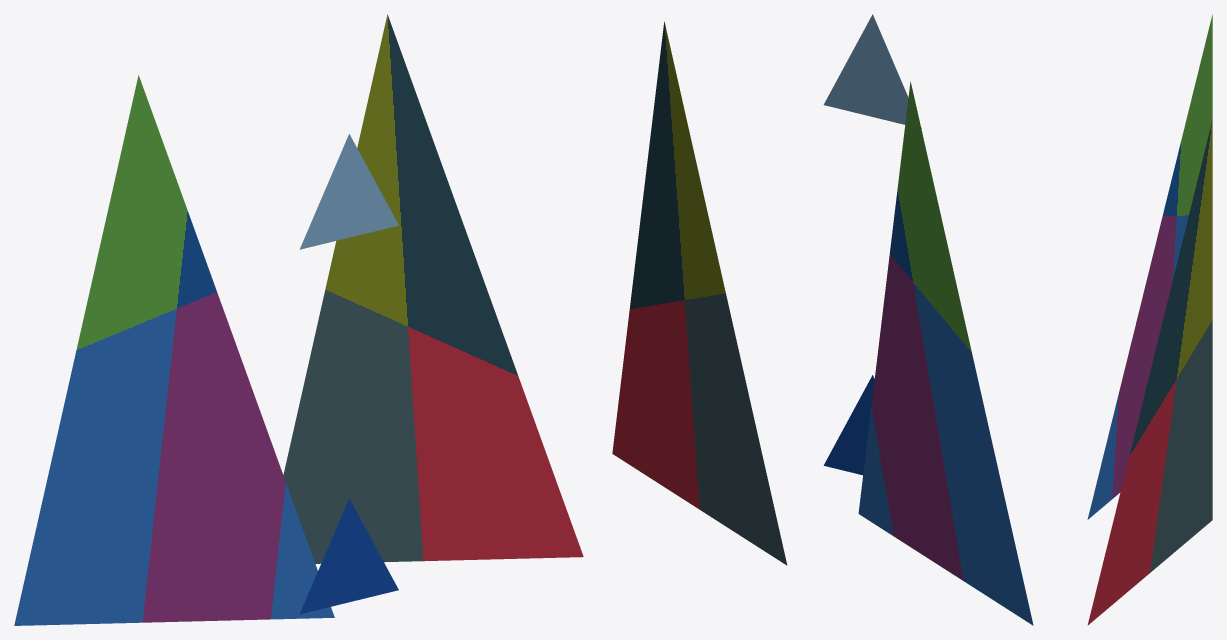
Rendered from MaterialProbe.gltf.
3 views of the same model, side by side, from view 1: azimuth 30°, elevation 25°; view 2: azimuth 150°, elevation 25°; view 3: azimuth 270°, elevation 25° (orthographic). The views are drawn at different scales.
Size of the model in its own units: 2 by 2 by 0.6.
Materials: 4 (3 with a texture image).
